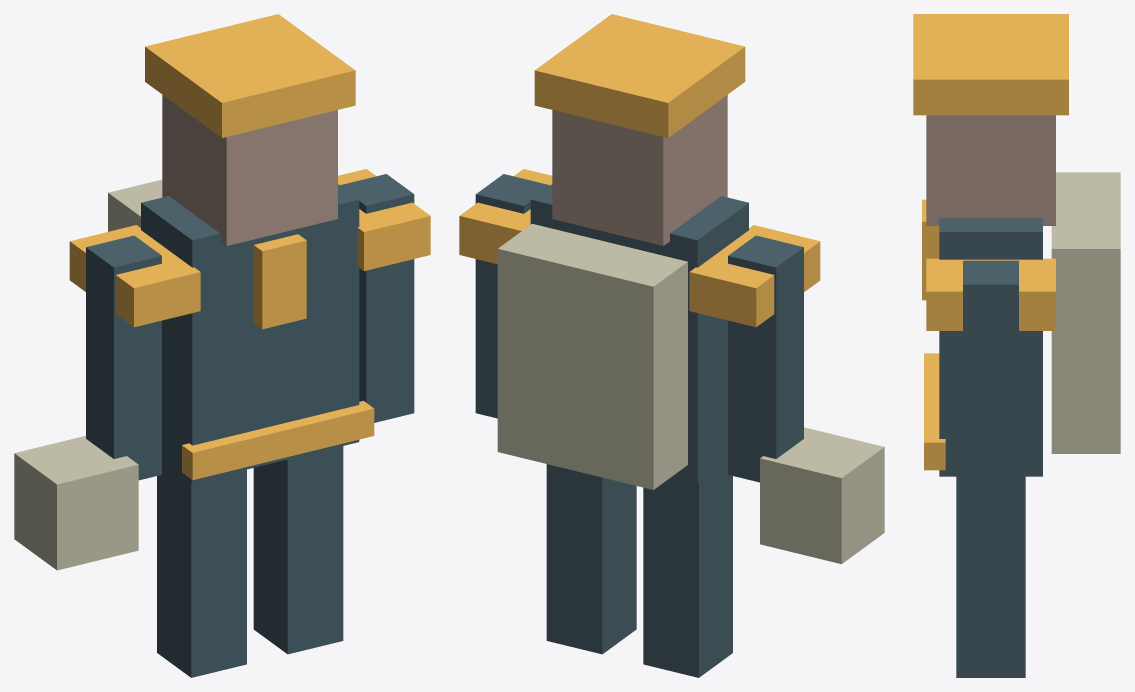
Rendered from 14_quill_voxmere_courier_from_recovery.glb.
The picture shows the model from 3 angles, left to right: view 1: azimuth 30°, elevation 25°; view 2: azimuth 150°, elevation 25°; view 3: azimuth 270°, elevation 25°; orthographic projection.
Visible parts, largest first — view 1: Quill Voxmere, Courier from Recovery; view 2: Quill Voxmere, Courier from Recovery; view 3: Quill Voxmere, Courier from Recovery.
Boxes of the visible parts, box(x1,y1,x2,y2) form: Quill Voxmere, Courier from Recovery: box(14, 14, 430, 677); Quill Voxmere, Courier from Recovery: box(459, 14, 884, 677); Quill Voxmere, Courier from Recovery: box(913, 14, 1120, 677).
Size of the model in its own units: 0.9359 by 1.43 by 0.4515.
